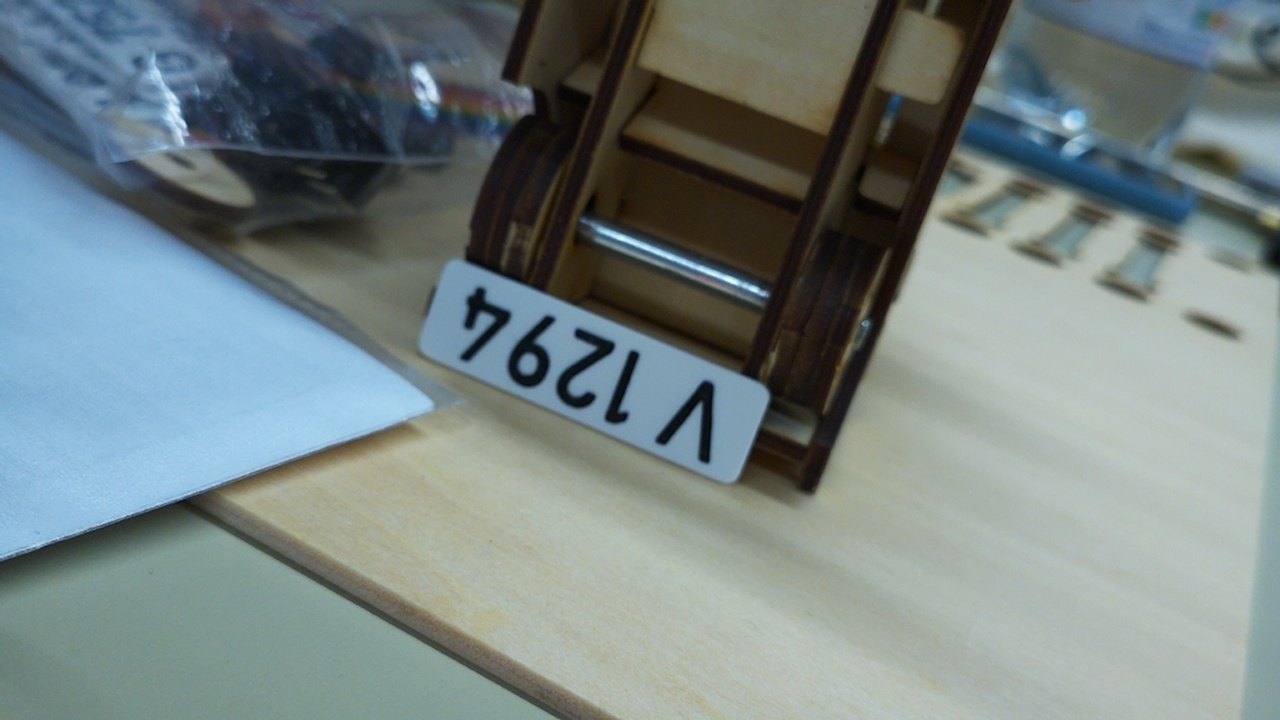license_plate: (413, 255, 772, 486)
